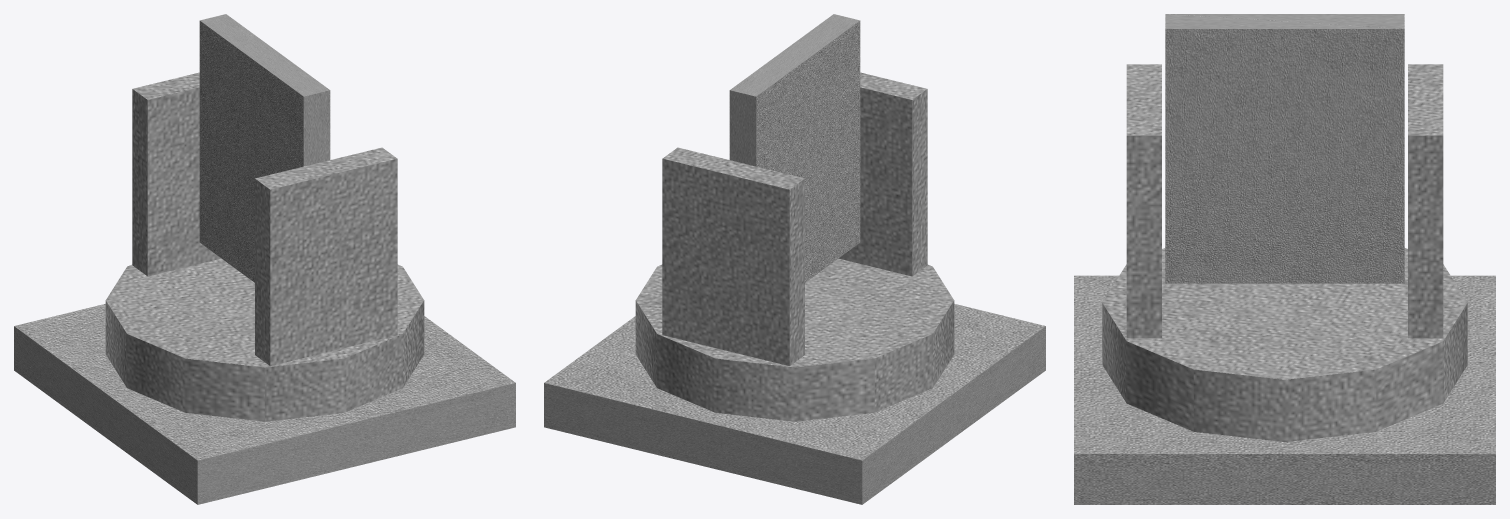
File: Sensor_mount.FBX
The picture shows the model from 3 angles, left to right: view 1: azimuth 30°, elevation 25°; view 2: azimuth 150°, elevation 25°; view 3: azimuth 270°, elevation 25°; orthographic projection. The views are drawn at different scales.
Visible parts, largest first — view 1: Cylinder01, Box02, Box05; view 2: Cylinder01, Box02, Box05; view 3: Cylinder01, Box05, Box02.
Part boxes in pixels (bbox=[...]): Cylinder01: bbox=[105, 72, 424, 421]; Box02: bbox=[14, 304, 515, 504]; Box05: bbox=[199, 14, 330, 282]; Cylinder01: bbox=[635, 72, 954, 421]; Box02: bbox=[544, 304, 1045, 504]; Box05: bbox=[729, 14, 860, 282]; Cylinder01: bbox=[1102, 64, 1467, 441]; Box05: bbox=[1165, 14, 1404, 283]; Box02: bbox=[1074, 275, 1495, 504].
Bounding box in the file's own units: 15.35 × 15.84 × 15.35.
